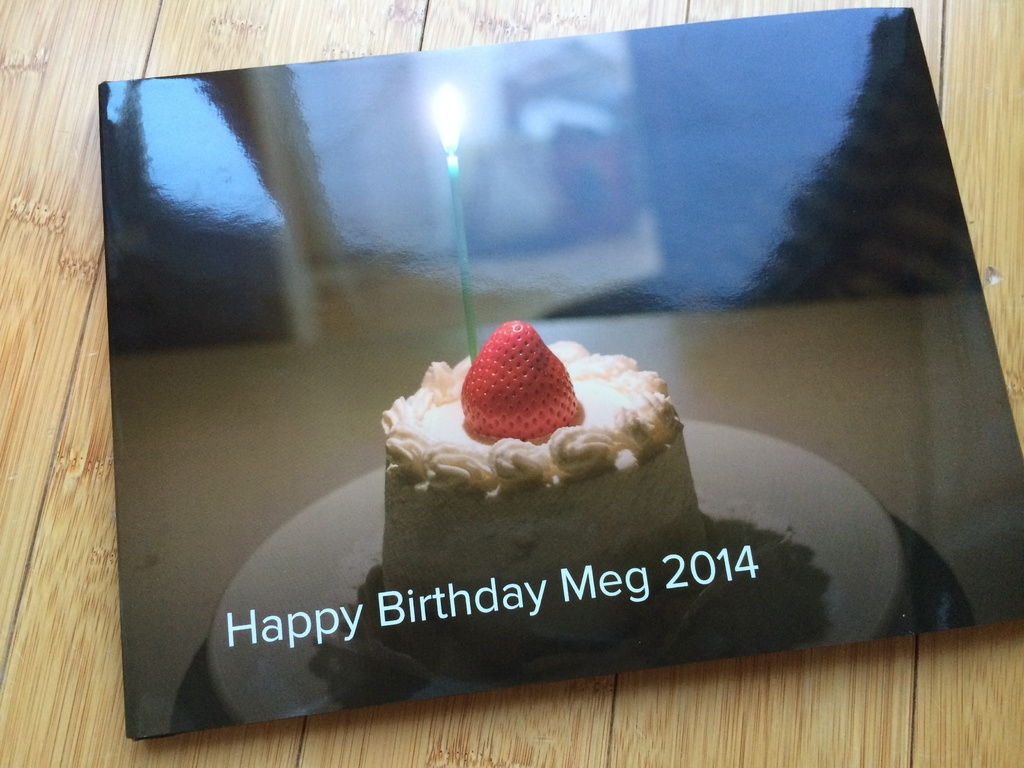cake: (371, 315, 727, 641)
